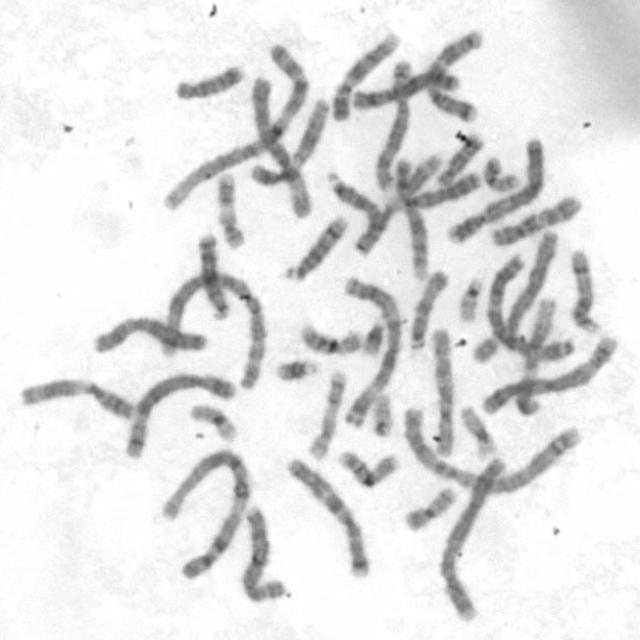A1: (158, 44, 314, 214), (157, 446, 254, 581)
A2: (396, 402, 583, 495), (156, 271, 269, 396)
A3: (337, 273, 403, 433), (482, 249, 574, 362)
B4: (437, 461, 518, 623), (441, 133, 548, 245)
B5: (476, 329, 622, 417), (122, 368, 238, 460)
C10: (485, 191, 584, 249), (428, 323, 457, 461)
C11: (353, 154, 445, 256), (13, 373, 138, 422)
C12: (249, 98, 333, 189), (510, 298, 560, 415)
C6: (474, 231, 562, 362), (246, 70, 313, 220)
C7: (284, 454, 372, 580), (420, 26, 484, 125)
C8: (371, 58, 416, 192), (237, 500, 285, 604)
C9: (327, 26, 401, 123), (393, 155, 432, 273)
D13: (399, 168, 483, 212), (194, 228, 231, 321)
D14: (279, 212, 351, 282), (566, 245, 601, 335)
D15: (405, 266, 450, 351), (323, 168, 382, 224)
E16: (335, 445, 399, 489), (296, 319, 363, 356)
E17: (303, 366, 349, 461), (213, 166, 246, 251)
E18: (169, 60, 245, 102), (433, 129, 485, 189)
F19: (455, 402, 499, 461), (187, 398, 239, 443)
F20: (400, 482, 459, 532), (476, 152, 528, 193)
G21: (272, 354, 322, 384), (358, 315, 386, 356)
G22: (453, 274, 484, 323), (369, 389, 395, 438)
X: (88, 312, 210, 360), (351, 69, 463, 109)
